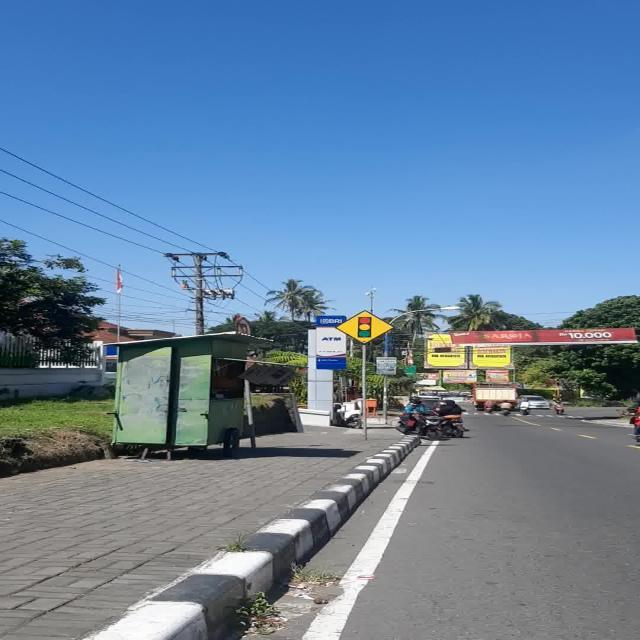Lampu Lalu Lintas: (334, 310, 394, 344)
